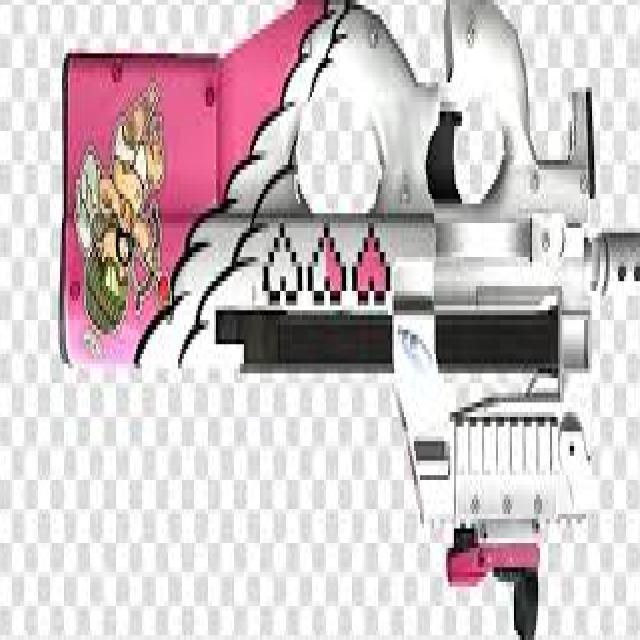Gun: (32, 29, 640, 596)
